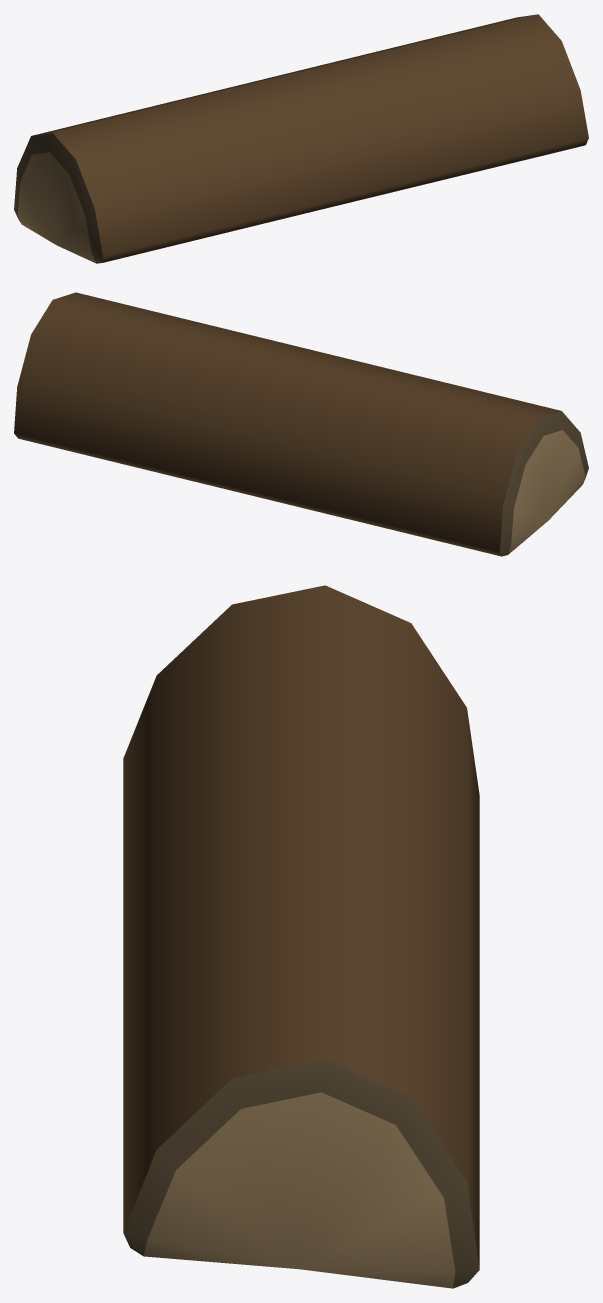
The model's file is trees-dead-trees-wood-cut-log_v2.glb.
3 renders of one model, top to bottom at view 1: azimuth 30°, elevation 25°; view 2: azimuth 150°, elevation 25°; view 3: azimuth 270°, elevation 25°, orthographic. The views are drawn at different scales.
Parts seen in each view (by area): view 1: Cut Log_v2; view 2: Cut Log_v2; view 3: Cut Log_v2.
Part boxes in pixels (<box>): Cut Log_v2: <box>14,14,588,263</box>; Cut Log_v2: <box>14,292,588,556</box>; Cut Log_v2: <box>123,585,479,1288</box>.
Size of the model in its own units: 1.5 by 0.3323 by 0.469.
